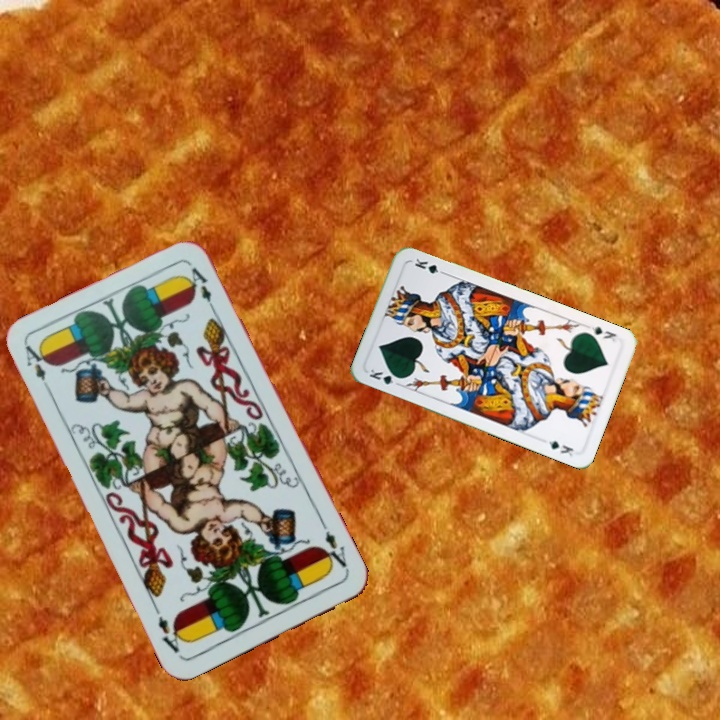EA: (21, 341, 55, 397), (318, 526, 352, 575)
GK: (365, 365, 405, 387), (587, 322, 619, 344)
